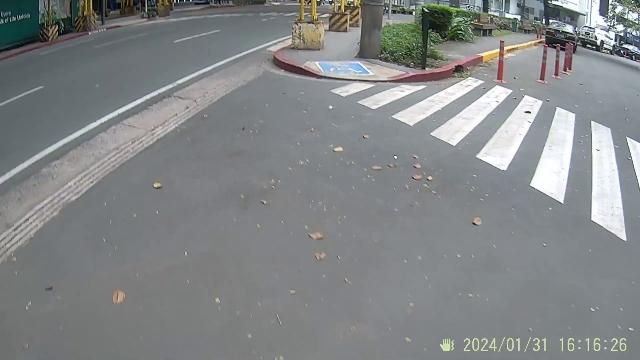construction_materials: (286, 0, 362, 50), (36, 1, 60, 42), (74, 0, 100, 32)
